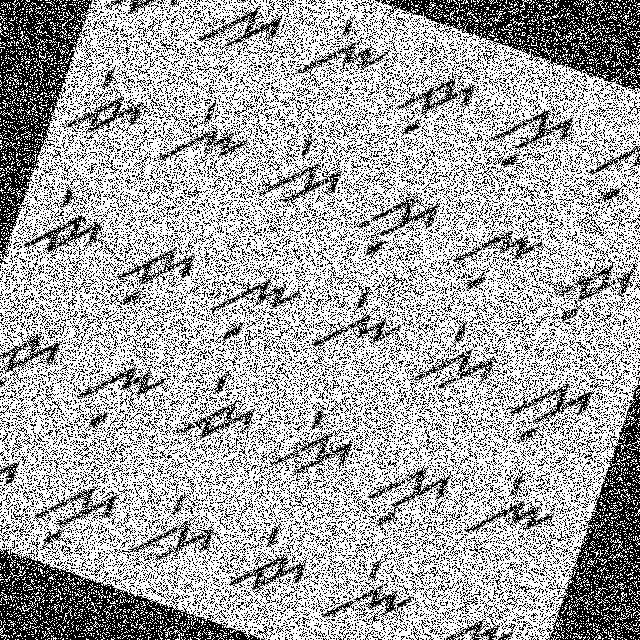je: (168, 356, 268, 464), (224, 511, 325, 614), (55, 54, 156, 156), (16, 170, 116, 272), (96, 0, 199, 37)
ju: (100, 222, 202, 326), (543, 237, 639, 342), (384, 54, 484, 154), (0, 312, 71, 418), (0, 429, 29, 533)
nye: (148, 82, 264, 193), (458, 451, 568, 561), (302, 274, 412, 378), (315, 541, 427, 639), (294, 0, 400, 103)
nyu: (192, 246, 308, 360), (61, 343, 172, 451), (440, 208, 548, 314), (572, 112, 639, 229), (415, 591, 522, 639)
se: (260, 389, 366, 502), (404, 306, 511, 414), (254, 118, 357, 222), (127, 480, 232, 582), (187, 0, 300, 71)
su: (491, 349, 605, 466), (21, 462, 127, 568), (352, 438, 456, 546), (341, 168, 444, 274), (478, 86, 580, 189)
